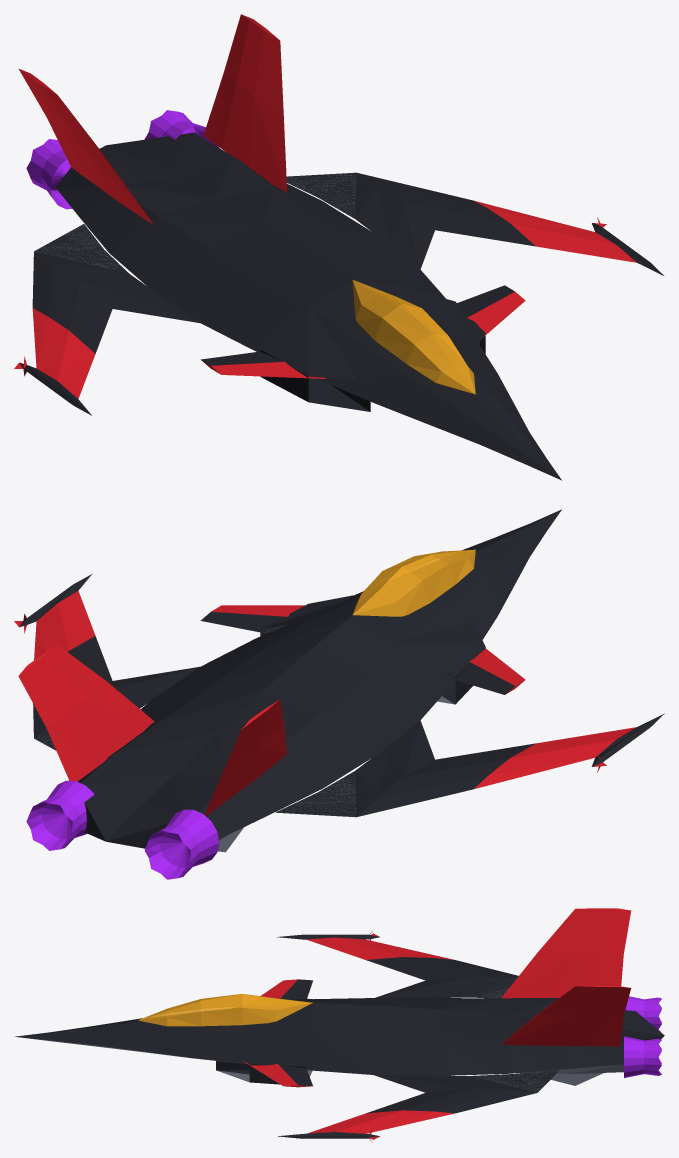
File: enemy_fighter_jet.obj
3 renders of one model, top to bottom at view 1: azimuth 30°, elevation 25°; view 2: azimuth 150°, elevation 25°; view 3: azimuth 270°, elevation 25°, orthographic. The views are drawn at different scales.
Parts seen in each view (by area): view 1: fuselage, wings, tail_fins, canopy, engines, underside; view 2: fuselage, wings, tail_fins, engines, canopy, underside; view 3: fuselage, wings, tail_fins, canopy, engines, underside.
Boxes of the visible parts, left/top/right/bottom form: fuselage: left=55, top=132, right=561, bottom=480; wings: left=14, top=172, right=663, bottom=415; tail_fins: left=19, top=14, right=287, bottom=225; canopy: left=352, top=280, right=475, bottom=394; engines: left=26, top=110, right=219, bottom=209; underside: left=36, top=173, right=521, bottom=462; fuselage: left=77, top=509, right=561, bottom=848; wings: left=14, top=574, right=664, bottom=817; tail_fins: left=18, top=645, right=287, bottom=815; engines: left=26, top=780, right=219, bottom=879; canopy: left=352, top=549, right=475, bottom=616; underside: left=35, top=631, right=454, bottom=852; fuselage: left=15, top=997, right=664, bottom=1084; wings: left=243, top=931, right=559, bottom=1142; tail_fins: left=501, top=908, right=631, bottom=1046; canopy: left=138, top=994, right=312, bottom=1026; engines: left=624, top=996, right=661, bottom=1077; underside: left=17, top=989, right=623, bottom=1091.
Size of the model in its own units: 13.06 by 3.5 by 17.4.
5 materials, 5 textured.
